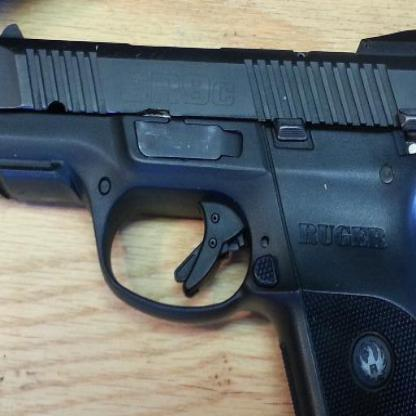gun: (0, 26, 415, 415), (0, 0, 375, 101)
